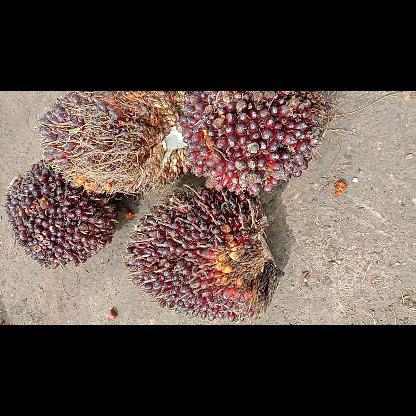Kurang masak: (123, 184, 283, 320), (177, 90, 327, 194), (36, 91, 188, 193), (5, 160, 121, 268)
